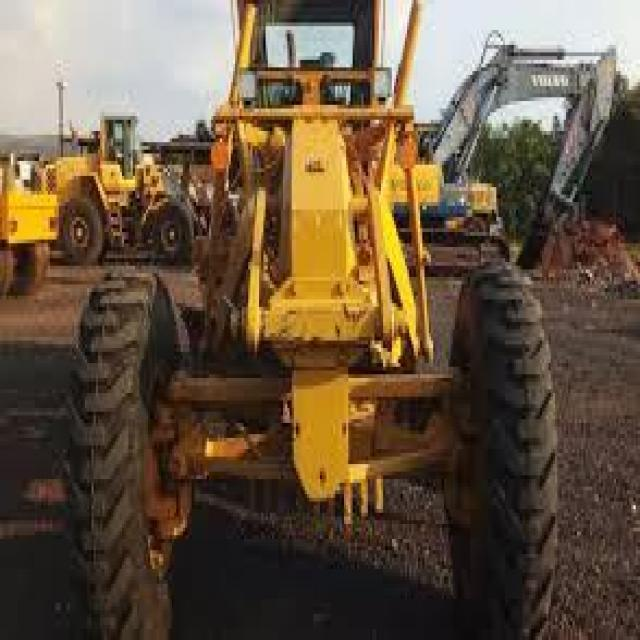Grader: (59, 4, 572, 636)
